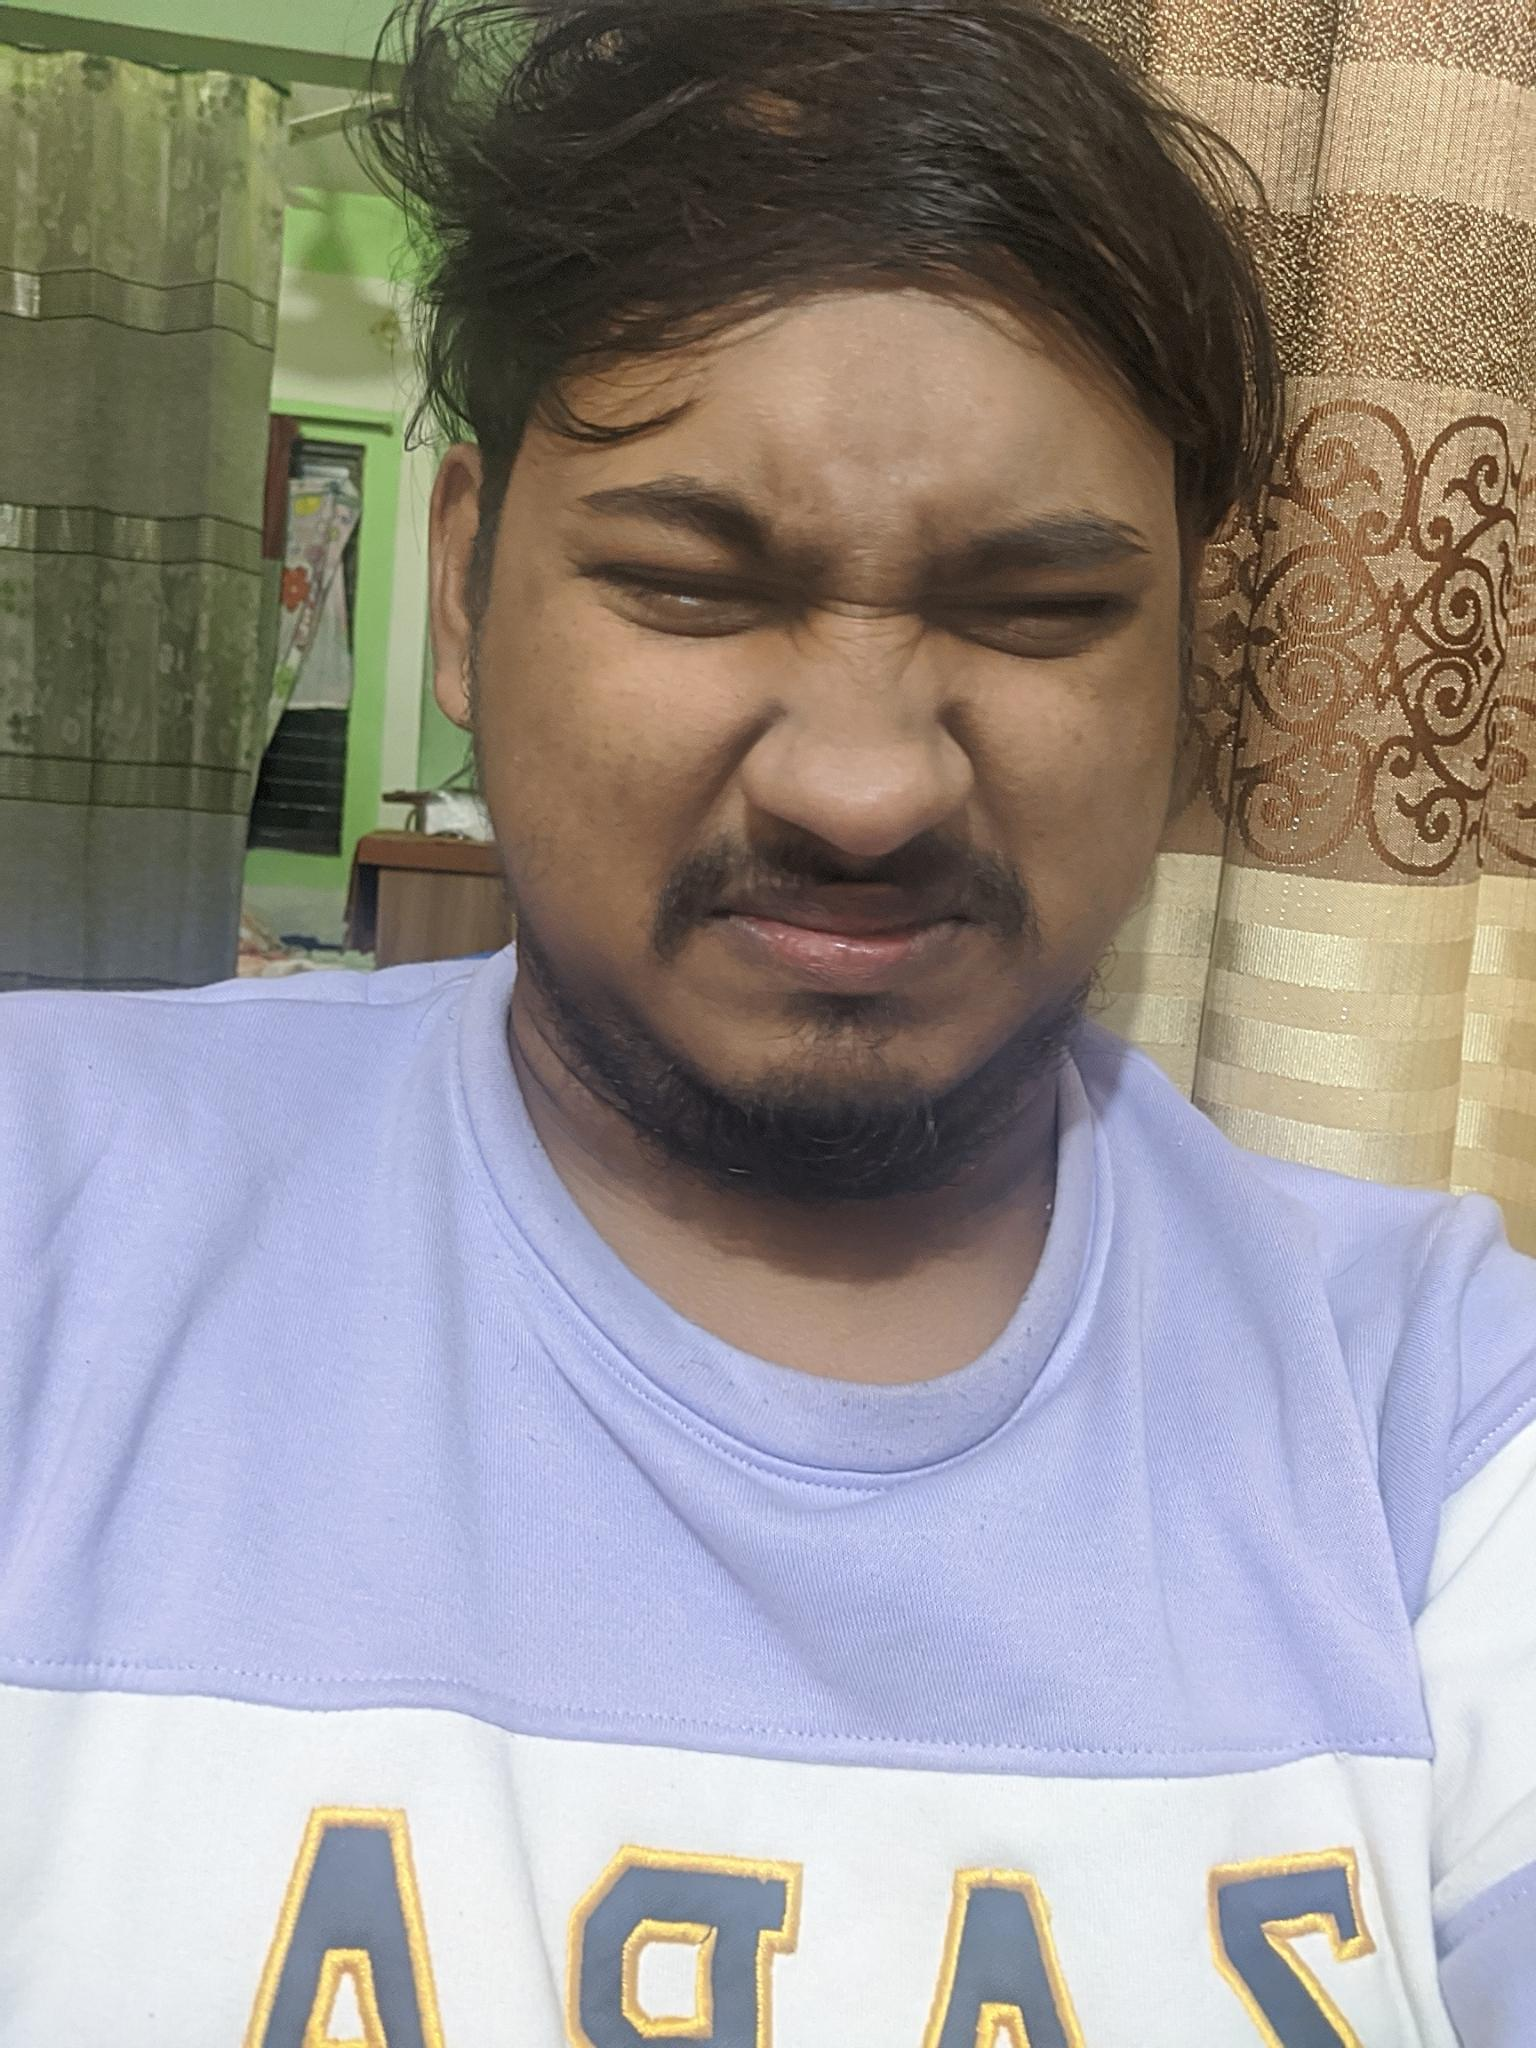Disgust: (500, 339, 1208, 1134)
